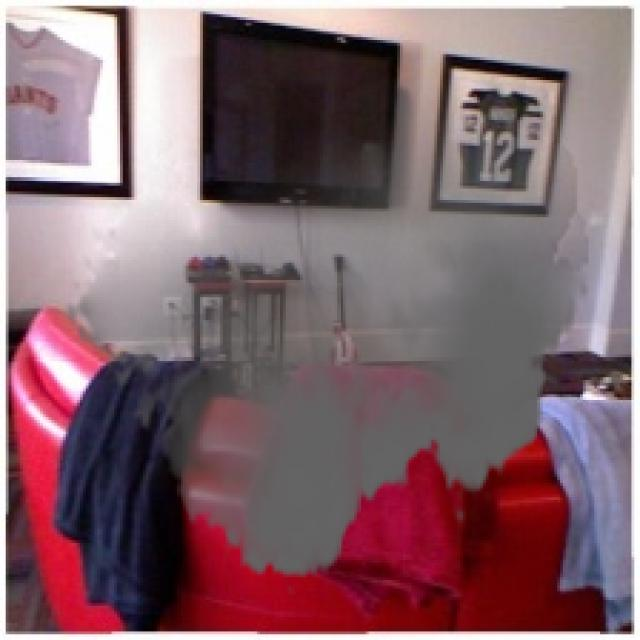smoke: (63, 57, 588, 597)
